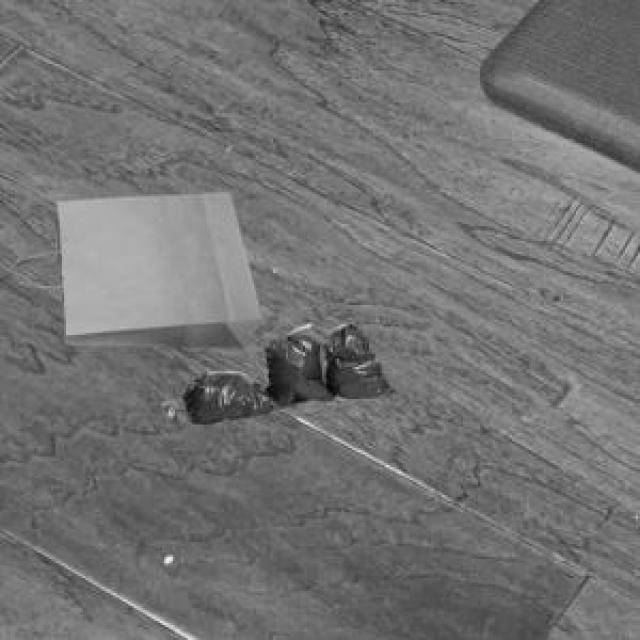miscellaneous trash: (179, 320, 393, 418)
paper: (28, 188, 258, 344)
